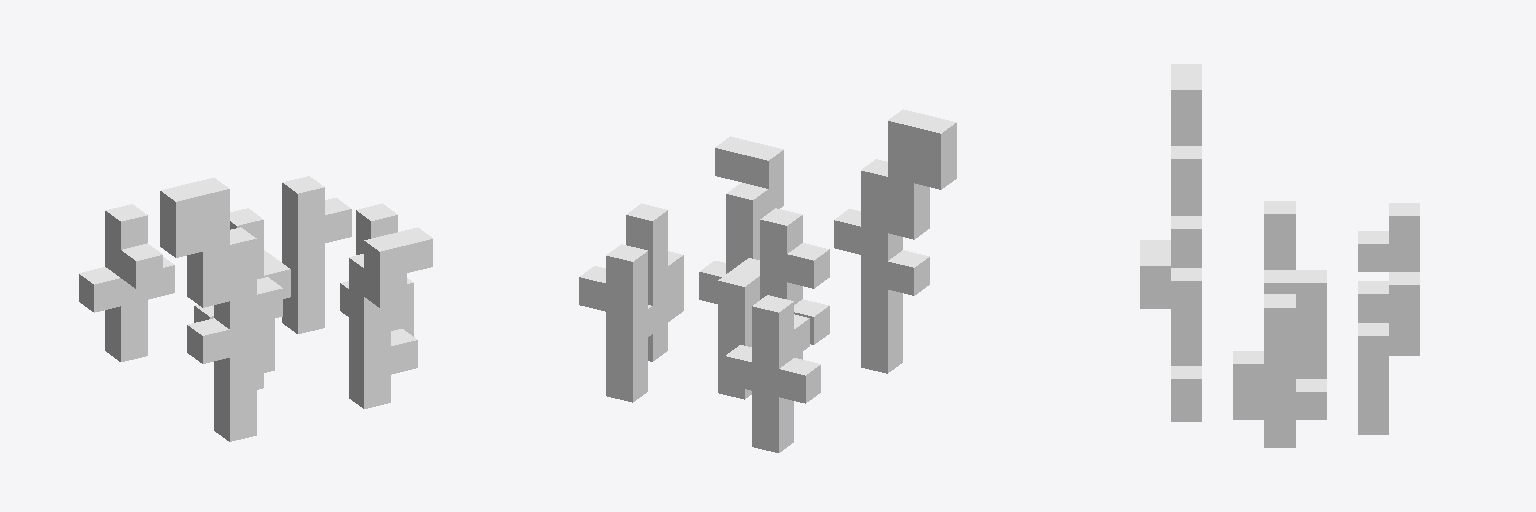
Rendered from Algas2.obj.
3 views of the same model, side by side, from view 1: azimuth 30°, elevation 25°; view 2: azimuth 150°, elevation 25°; view 3: azimuth 270°, elevation 25° (orthographic).
Visible parts, largest first — view 1: object 1; view 2: object 1; view 3: object 1.
Boxes of the visible parts, box(x1,y1,x2,y2) form: object 1: box(79, 176, 432, 441); object 1: box(579, 109, 956, 452); object 1: box(1140, 64, 1419, 447).
Bounding box in the file's own units: 1 × 0.9 × 0.9.